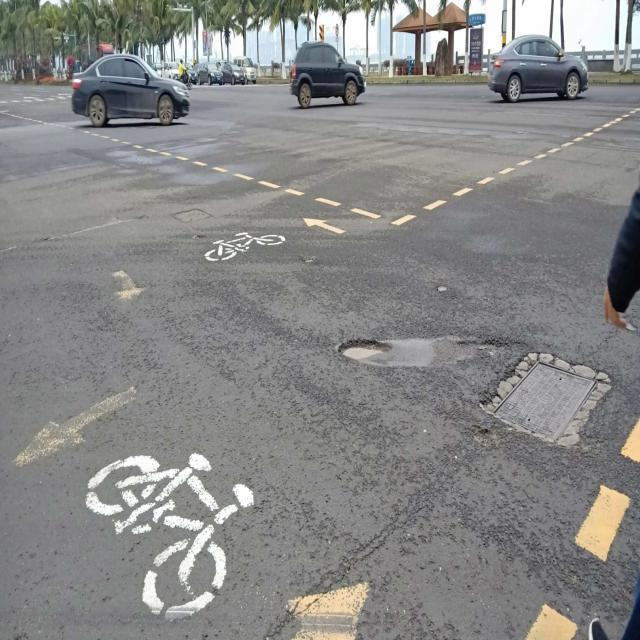pothole: (471, 353, 611, 451), (334, 332, 399, 373)
